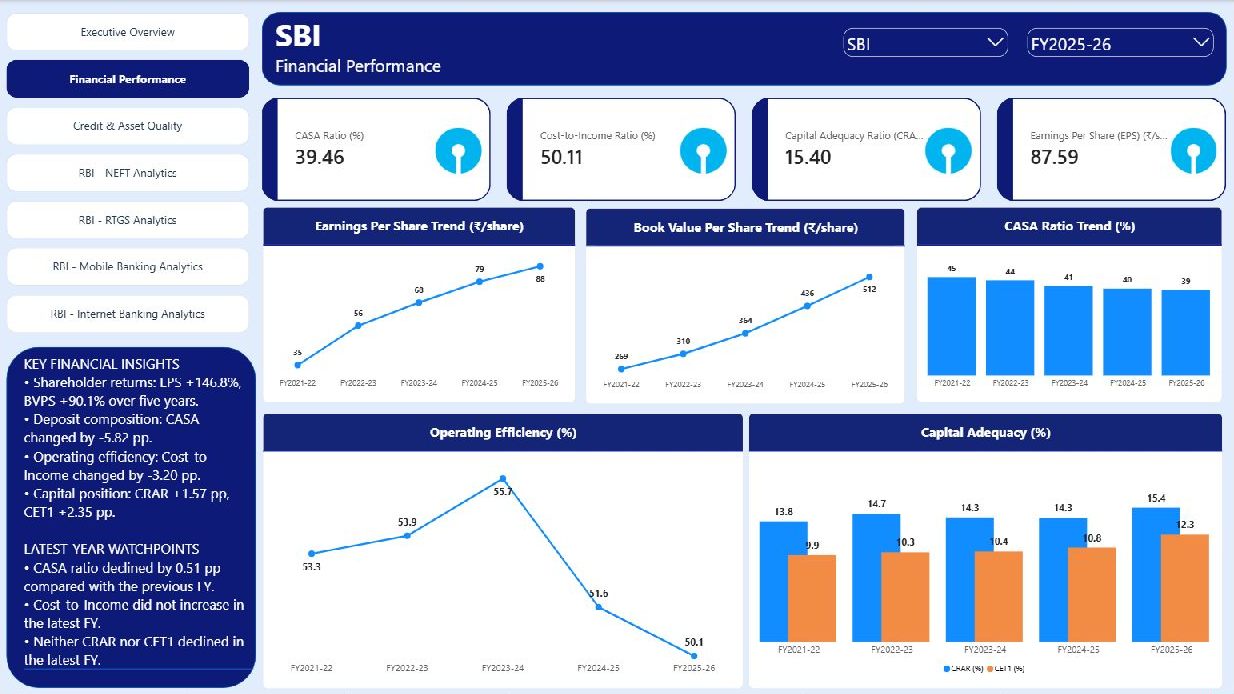

This screenshot's page, from the dashboard's own definition file:
{"tool":"powerbi","page":{"name":"Financial Performance","canvas":[1920,1080],"ordinal":1},"visuals":[{"type":"shape","box":[408,18,1510,114],"z":0},{"type":"lineChart","title":"Book Value Per Share Trend (₹/share)","fields":{"Category":["Dim_Financial_Year.Financial Year"],"Y":["Bank KPIs.Book Value per Share (INR)"]},"box":[911.1,323,497,304.4],"z":1000},{"type":"lineChart","title":"Earnings Per Share Trend (₹/share)","fields":{"Category":["Dim_Financial_Year.Financial Year"],"Y":["Bank KPIs.EPS (INR per share)"]},"box":[408.9,322.4,486.3,304.4],"z":2000},{"type":"lineStackedColumnComboChart","title":"CASA Ratio Trend (%)","fields":{"Category":["Dim_Financial_Year.Financial Year"],"Y":["Bank KPIs.CASA (%)"]},"box":[1424.7,322.4,475.5,304.4],"z":3000},{"type":"lineChart","title":"Operating Efficiency (%)","fields":{"Category":["Dim_Financial_Year.Financial Year"],"Y":["Bank KPIs.Cost-to-Income (%)"]},"box":[408.9,641.2,747.5,428.7],"z":4000},{"type":"clusteredColumnChart","title":"Capital Adequacy (%)","fields":{"Category":["Dim_Financial_Year.Financial Year"],"Y":["Bank KPIs.CRAR (%)","Bank KPIs.CET1 (%)"]},"box":[1163.5,641.2,736.7,428.7],"z":5000},{"type":"cardVisual","fields":{"Data":["Bank KPIs.Financial CASA Snapshot","Bank KPIs.Financial Cost Income Snapshot","Bank KPIs.Financial CRAR Snapshot","Bank KPIs.Financial EPS Snapshot"]},"box":[408,132,1512,190],"z":6000},{"type":"pageNavigator","box":[0,0,408.3,539.3],"z":7000},{"type":"shape","box":[0,540,408,530],"z":8000},{"type":"textbox","box":[28,540,380,530],"z":9000},{"type":"textbox","box":[408.1,10.5,589.5,102.9],"z":10000},{"type":"slicer","fields":{"Values":["Dim_Bank.Bank Name"]},"box":[1296,18,286,112],"z":11000},{"type":"slicer","fields":{"Values":["Dim_Financial_Year.Financial Year"]},"box":[1582,18,320,112],"z":12000}]}

Visuals, with their boxes in screenshot pixels (x1, y1, x2, y2), scaled from the page's 1920x1080 canvas onto the 1234x694 screenshot:
shape: x1=262, y1=12, x2=1233, y2=85
"Book Value Per Share Trend (₹/share)" lineChart: x1=586, y1=208, x2=905, y2=403
"Earnings Per Share Trend (₹/share)" lineChart: x1=263, y1=207, x2=575, y2=403
"CASA Ratio Trend (%)" lineStackedColumnComboChart: x1=916, y1=207, x2=1221, y2=403
"Operating Efficiency (%)" lineChart: x1=263, y1=412, x2=743, y2=688
"Capital Adequacy (%)" clusteredColumnChart: x1=748, y1=412, x2=1221, y2=688
cardVisual - Bank KPIs.Financial CASA Snapshot x Bank KPIs.Financial Cost Income Snapshot: x1=262, y1=85, x2=1233, y2=207
pageNavigator: x1=0, y1=0, x2=262, y2=347
shape: x1=0, y1=347, x2=262, y2=688
textbox: x1=18, y1=347, x2=262, y2=688
textbox: x1=262, y1=7, x2=641, y2=73
slicer - Dim_Bank.Bank Name: x1=833, y1=12, x2=1017, y2=84
slicer - Dim_Financial_Year.Financial Year: x1=1017, y1=12, x2=1222, y2=84
